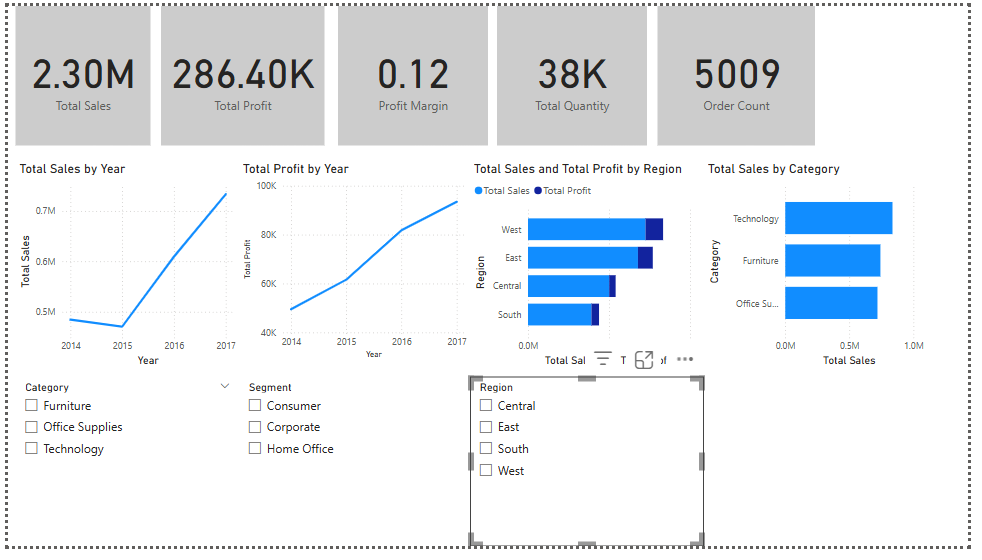

Layout of this report page (visuals, bound fields, positions):
{"tool":"powerbi","page":{"name":"Page 1","canvas":[1280,720],"ordinal":0},"visuals":[{"type":"card","fields":{"Values":["Superstore.Total Sales"]},"box":[10,0,180,186],"z":0},{"type":"card","fields":{"Values":["Superstore.Total Profit"]},"box":[204,0,218,186],"z":1000},{"type":"card","fields":{"Values":["Superstore.Profit Margin"]},"box":[440,0,200,186],"z":2000},{"type":"card","fields":{"Values":["Superstore.Total Quantity"]},"box":[652,0,200,186],"z":3000},{"type":"card","fields":{"Values":["Superstore.Order Count"]},"box":[866,0,210,186],"z":4000},{"type":"lineChart","fields":{"Category":["Superstore.Order Date.Variation.Date Hierarchy.Year","Superstore.Order Date.Variation.Date Hierarchy.Quarter","Superstore.Order Date.Variation.Date Hierarchy.Month","Superstore.Order Date.Variation.Date Hierarchy.Day"],"Y":["Superstore.Total Sales"]},"box":[10,206,298,278],"z":5000},{"type":"lineChart","fields":{"Category":["Superstore.Order Date.Variation.Date Hierarchy.Year","Superstore.Order Date.Variation.Date Hierarchy.Quarter","Superstore.Order Date.Variation.Date Hierarchy.Month","Superstore.Order Date.Variation.Date Hierarchy.Day"],"Y":["Superstore.Total Profit"]},"box":[308,206,308,268],"z":6000},{"type":"barChart","fields":{"Category":["Superstore.Region"],"Y":["Superstore.Total Sales","Superstore.Total Profit"]},"box":[616,206,312,278],"z":7000},{"type":"barChart","fields":{"Category":["Superstore.Category"],"Y":["Superstore.Total Sales"]},"box":[928,206,298,278],"z":8000},{"type":"slicer","fields":{"Values":["Superstore.Category"]},"box":[10,494,298,226],"z":8001},{"type":"slicer","fields":{"Values":["Superstore.Segment"]},"box":[308,494,308,226],"z":8002},{"type":"slicer","fields":{"Values":["Superstore.Region"]},"box":[616,494,312,226],"z":8003}]}

Visuals, with their boxes in screenshot pixels (x1, y1, x2, y2), scaled from the page's 1280x720 canvas onto the 982x560 screenshot:
card - Superstore.Total Sales: {"x1": 8, "y1": 0, "x2": 146, "y2": 145}
card - Superstore.Total Profit: {"x1": 157, "y1": 0, "x2": 324, "y2": 145}
card - Superstore.Profit Margin: {"x1": 338, "y1": 0, "x2": 491, "y2": 145}
card - Superstore.Total Quantity: {"x1": 500, "y1": 0, "x2": 654, "y2": 145}
card - Superstore.Order Count: {"x1": 664, "y1": 0, "x2": 825, "y2": 145}
lineChart - Superstore.Order Date.Variation.Date Hierarchy.Year x Superstore.Order Date.Variation.Date Hierarchy.Quarter: {"x1": 8, "y1": 160, "x2": 236, "y2": 376}
lineChart - Superstore.Order Date.Variation.Date Hierarchy.Year x Superstore.Order Date.Variation.Date Hierarchy.Quarter: {"x1": 236, "y1": 160, "x2": 473, "y2": 369}
barChart - Superstore.Region x Superstore.Total Sales: {"x1": 473, "y1": 160, "x2": 712, "y2": 376}
barChart - Superstore.Category x Superstore.Total Sales: {"x1": 712, "y1": 160, "x2": 941, "y2": 376}
slicer - Superstore.Category: {"x1": 8, "y1": 384, "x2": 236, "y2": 559}
slicer - Superstore.Segment: {"x1": 236, "y1": 384, "x2": 473, "y2": 559}
slicer - Superstore.Region: {"x1": 473, "y1": 384, "x2": 712, "y2": 559}
